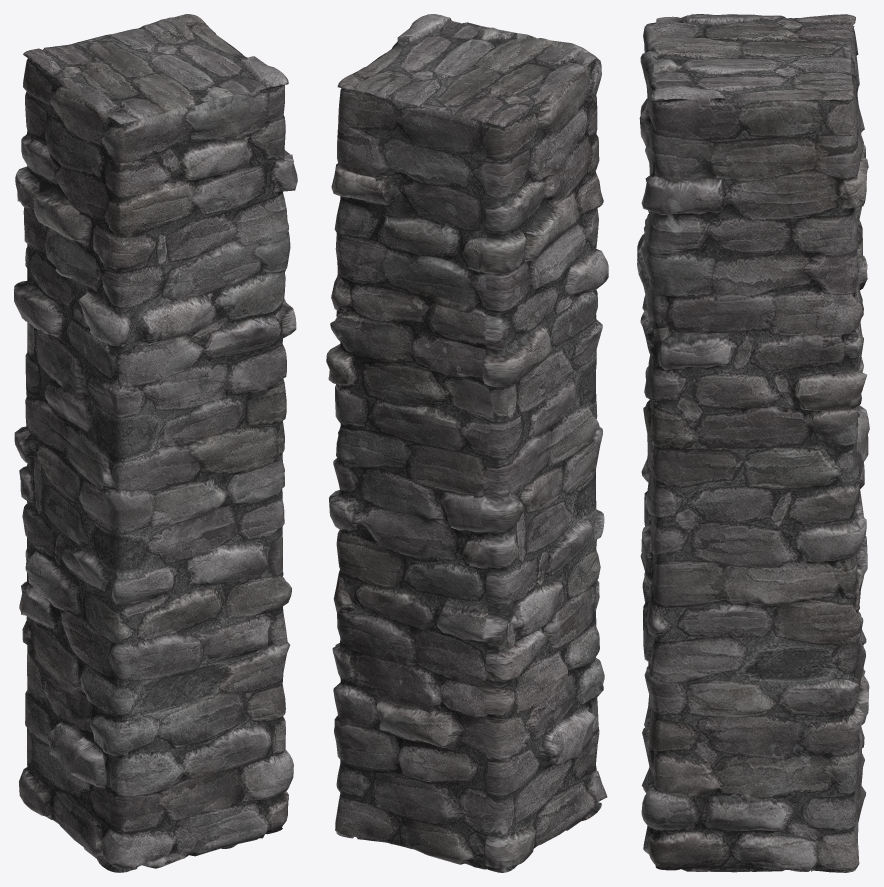
File: SM_ColumnC.FBX
The picture shows the model from 3 angles, left to right: view 1: azimuth 30°, elevation 25°; view 2: azimuth 150°, elevation 25°; view 3: azimuth 270°, elevation 25°; orthographic projection. The views are drawn at different scales.
Parts seen in each view (by area): view 1: SM_ColumnC_LOD0; view 2: SM_ColumnC_LOD0; view 3: SM_ColumnC_LOD0.
Boxes of the visible parts, x1,y1,x2,y2 form: SM_ColumnC_LOD0: (14,14,297,872); SM_ColumnC_LOD0: (326,14,608,872); SM_ColumnC_LOD0: (637,14,869,872).
Size of what is drawn, in the model's own units: 93.42 by 346 by 93.03.
